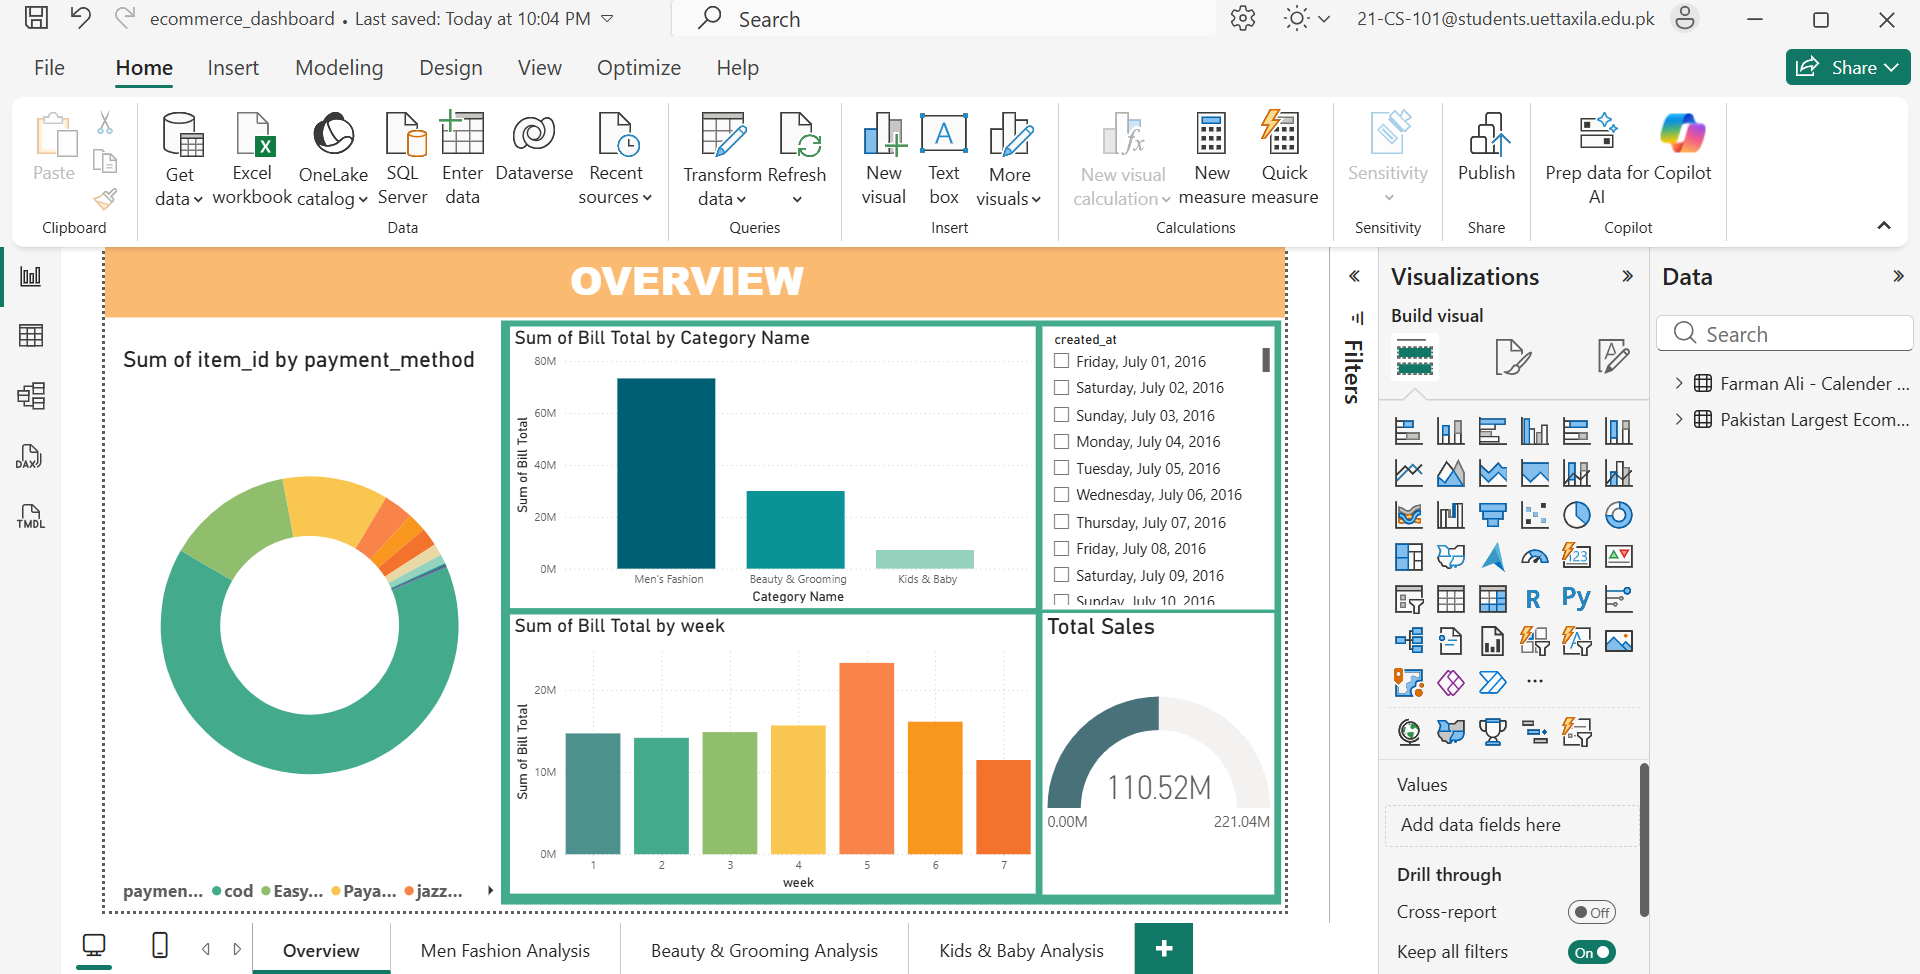

The page's visual inventory and layout, read from the dashboard file:
{"tool":"powerbi","page":{"name":"Overview","canvas":[1280,720],"ordinal":0},"visuals":[{"type":"shape","box":[429.6,79.6,846.3,633.3],"z":500},{"type":"shape","box":[0,0,1280.4,76.5],"z":2000},{"type":"textbox","box":[500,0,278.4,80.4],"z":4000},{"type":"slicer","fields":{"Values":["Pakistan Largest Ecommerce Data (2).created_at"]},"box":[1016.9,86.2,251.5,306.2],"z":6000},{"type":"columnChart","fields":{"Category":["Pakistan Largest Ecommerce Data (2).Category Name"],"Y":["Sum(Pakistan Largest Ecommerce Data (2).Bill Total)"]},"box":[439.5,86.8,569.7,305.3],"z":7000},{"type":"donutChart","fields":{"Category":["Pakistan Largest Ecommerce Data (2).payment_method"],"Y":["Sum(Pakistan Largest Ecommerce Data (2).item_id)"]},"box":[15.1,107.7,413.9,612.3],"z":8000},{"type":"gauge","fields":{"Y":["Pakistan Largest Ecommerce Data (2).Total Sales"]},"box":[1016.9,396.2,251.5,305.4],"z":9000},{"type":"columnChart","fields":{"Category":["Pakistan Largest Ecommerce Data (2).week"],"Y":["Sum(Pakistan Largest Ecommerce Data (2).Bill Total)"]},"box":[439.5,398.7,569.7,302.6],"z":10500}]}

Visuals, with their boxes on the page's 1280x720 design canvas (x1, y1, x2, y2). These are canvas units, not pixel positions in the 1920x974 screenshot, which may show the page scaled, cropped or inside an application window:
shape: [x1=430, y1=80, x2=1276, y2=713]
shape: [x1=0, y1=0, x2=1280, y2=76]
textbox: [x1=500, y1=0, x2=778, y2=80]
slicer - Pakistan Largest Ecommerce Data (2).created_at: [x1=1017, y1=86, x2=1268, y2=392]
columnChart - Pakistan Largest Ecommerce Data (2).Category Name x Sum(Pakistan Largest Ecommerce Data (2).Bill Total): [x1=440, y1=87, x2=1009, y2=392]
donutChart - Pakistan Largest Ecommerce Data (2).payment_method x Sum(Pakistan Largest Ecommerce Data (2).item_id): [x1=15, y1=108, x2=429, y2=720]
gauge - Pakistan Largest Ecommerce Data (2).Total Sales: [x1=1017, y1=396, x2=1268, y2=702]
columnChart - Pakistan Largest Ecommerce Data (2).week x Sum(Pakistan Largest Ecommerce Data (2).Bill Total): [x1=440, y1=399, x2=1009, y2=701]
